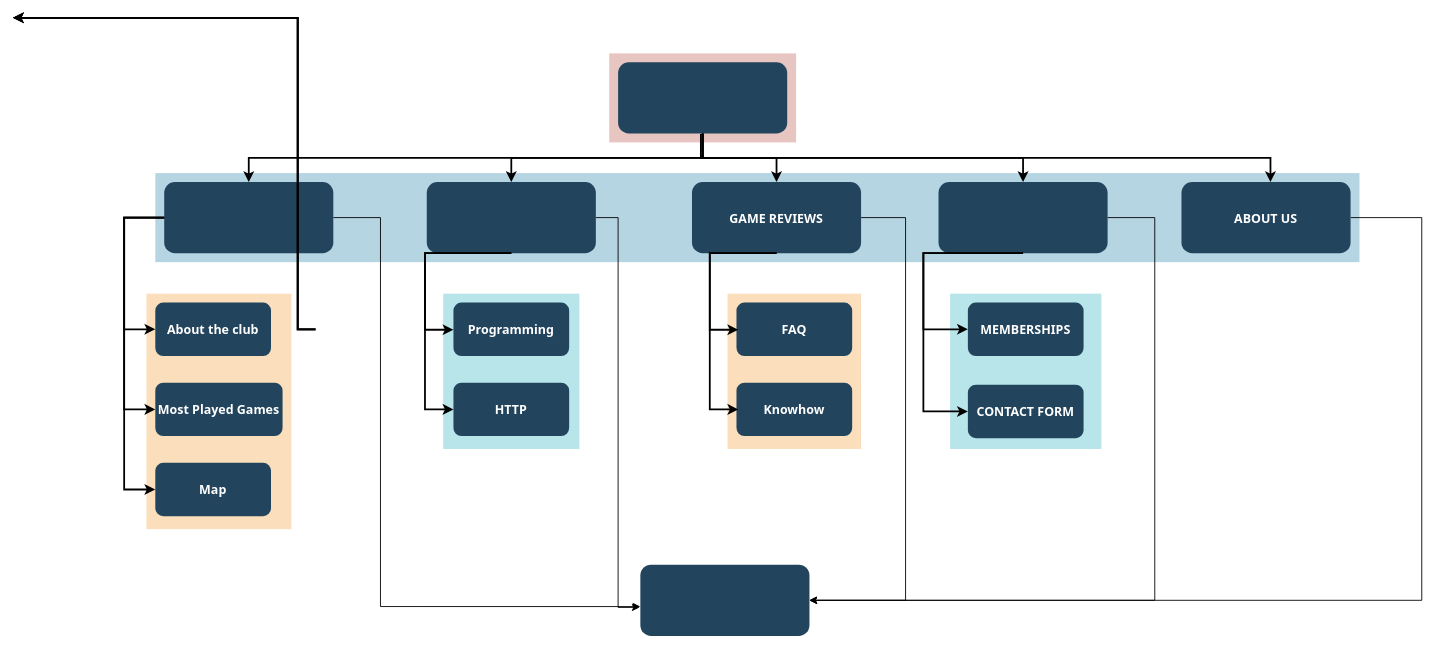
Some shapes in this 1436 by 651 pixel diagram are drawn without their labels. The centre of each missing label's shape, as x and y in pixels:
"ANIMA MUNDI" belongs at point 702,97.
"COVID GUIDELINES" belongs at point 724,599.
"EVENTS" belongs at point 510,217.
"HOME" belongs at point 248,217.
"MEMBERSHIP" belongs at point 1022,217.
